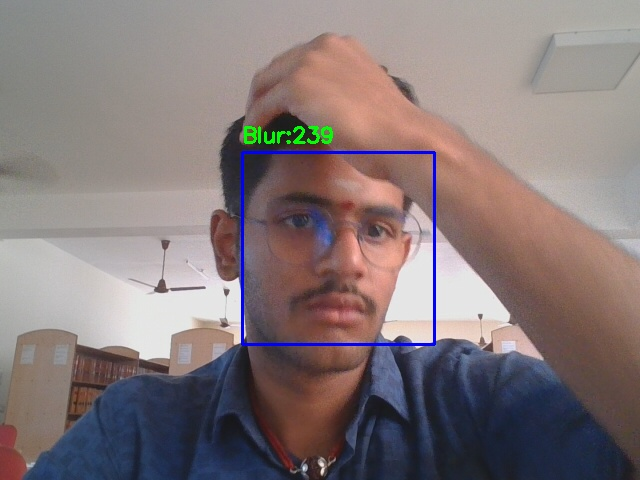real: (242, 152, 434, 344)
